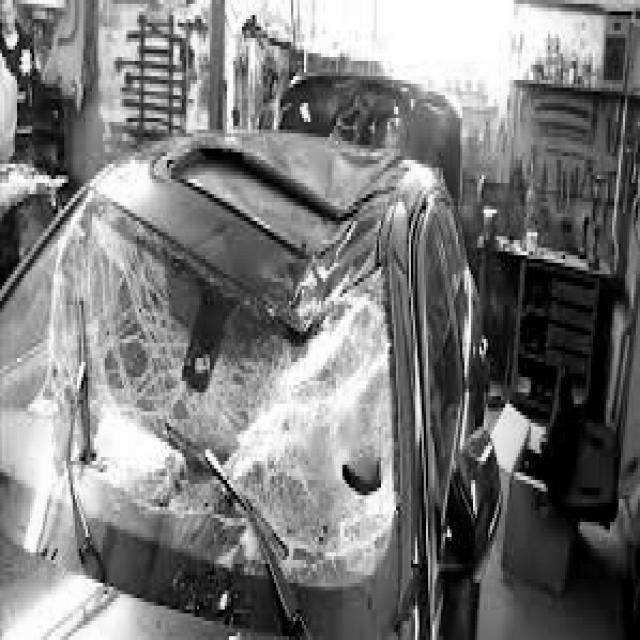Front-windscreen-damage: (30, 219, 398, 572)
Sidemirror-Damage: (448, 434, 506, 563)
roof-dent: (123, 136, 428, 260)
